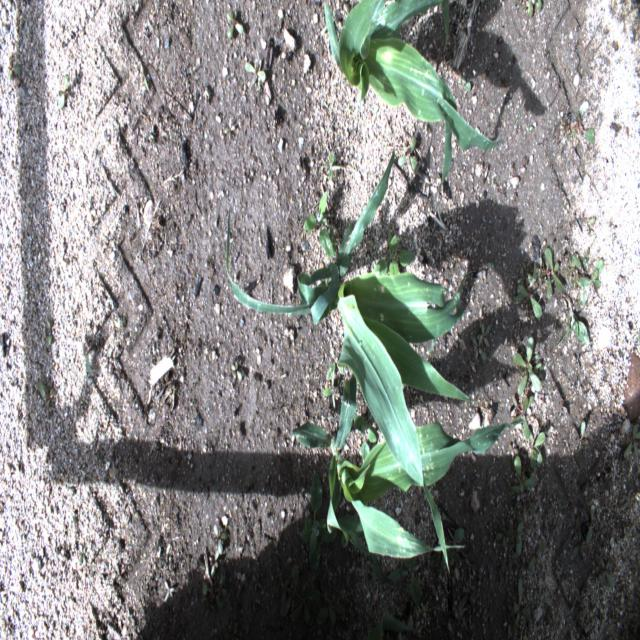crop: (226, 143, 477, 572), (291, 372, 524, 584), (323, 0, 525, 224), (366, 614, 418, 638)
weed: (300, 470, 336, 570), (280, 564, 320, 628), (373, 226, 416, 278), (568, 248, 604, 310), (303, 190, 332, 258), (556, 294, 590, 346), (513, 337, 541, 396), (514, 261, 542, 319), (536, 243, 564, 300), (353, 408, 378, 466), (512, 577, 532, 634), (316, 589, 345, 625), (512, 394, 534, 441), (402, 558, 421, 606), (526, 424, 546, 469), (202, 572, 227, 606), (511, 456, 533, 493), (398, 136, 420, 172), (326, 339, 344, 382), (322, 367, 339, 409), (595, 554, 615, 589), (244, 57, 266, 88), (623, 424, 640, 460), (527, 541, 546, 570), (578, 112, 595, 144), (438, 528, 464, 548), (472, 334, 488, 365), (38, 378, 55, 407), (510, 520, 524, 555), (226, 12, 243, 40), (578, 210, 596, 236), (214, 523, 228, 555), (586, 504, 595, 544), (496, 527, 513, 548), (322, 151, 334, 180), (58, 74, 68, 108), (578, 420, 588, 453), (478, 323, 491, 348), (573, 530, 585, 556), (208, 549, 219, 577), (527, 0, 543, 18), (224, 116, 236, 140), (7, 64, 22, 82), (230, 360, 242, 382), (329, 226, 337, 258), (163, 581, 174, 602), (596, 520, 607, 540), (79, 544, 88, 567), (140, 71, 149, 92), (46, 318, 52, 348), (533, 362, 544, 378), (461, 76, 471, 92), (566, 129, 577, 141), (525, 355, 538, 362), (72, 517, 79, 526)
